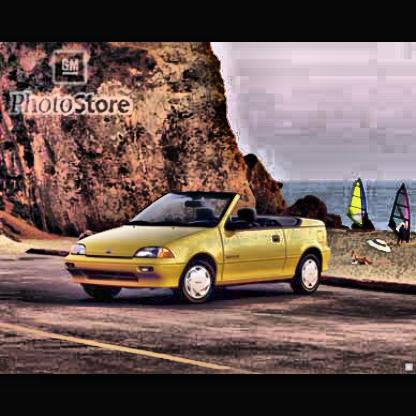Geo Metro Convertible 1993: (67, 193, 331, 305)
